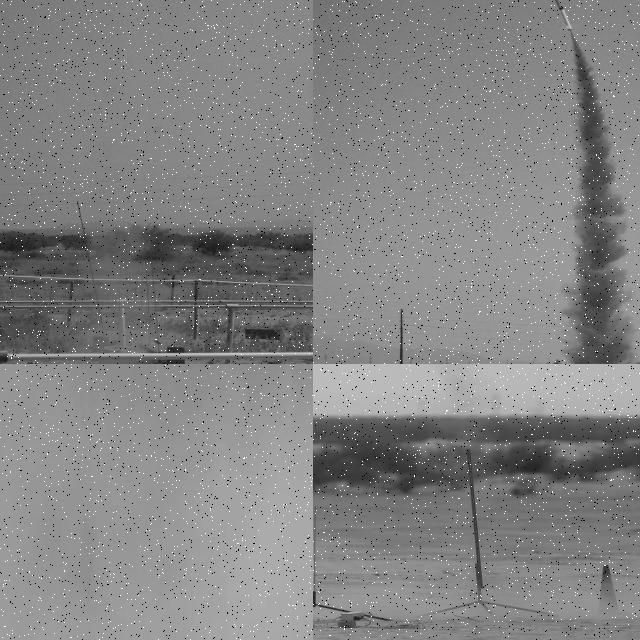Rocket: (544, 0, 579, 31)
